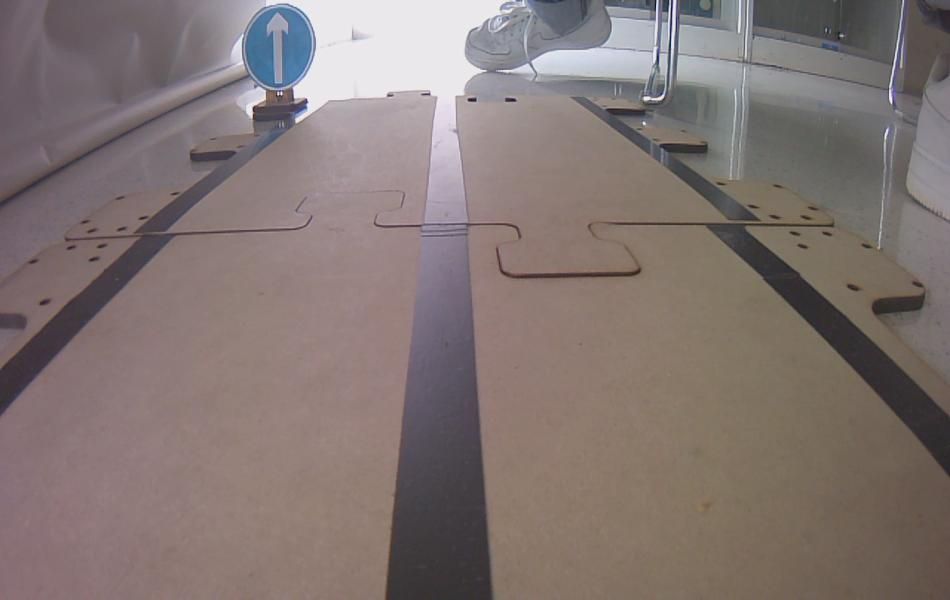straight: (241, 3, 316, 92)
